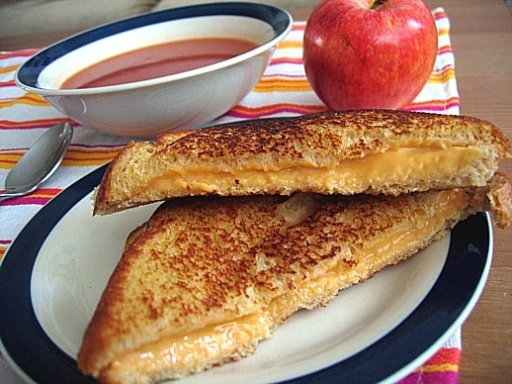background: (59, 0, 409, 230), (49, 22, 206, 52)
